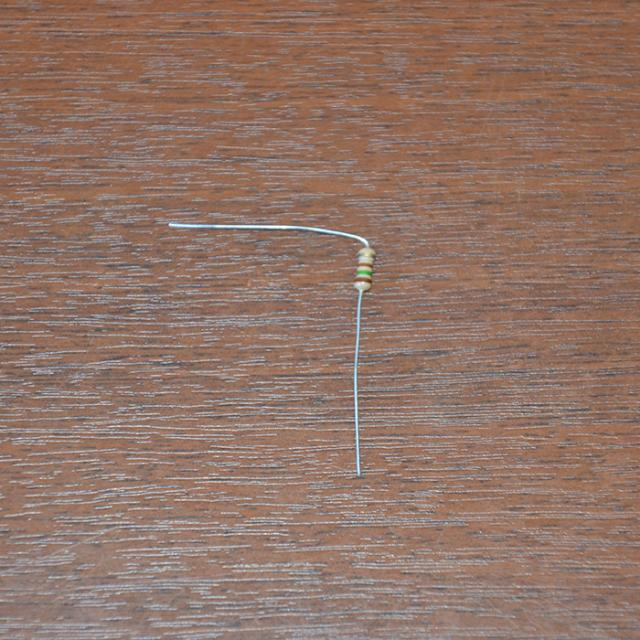brown: (354, 278, 373, 283), (360, 262, 372, 267)
gold: (360, 253, 374, 257)
green: (357, 270, 371, 275)
resistor: (347, 241, 386, 295)
